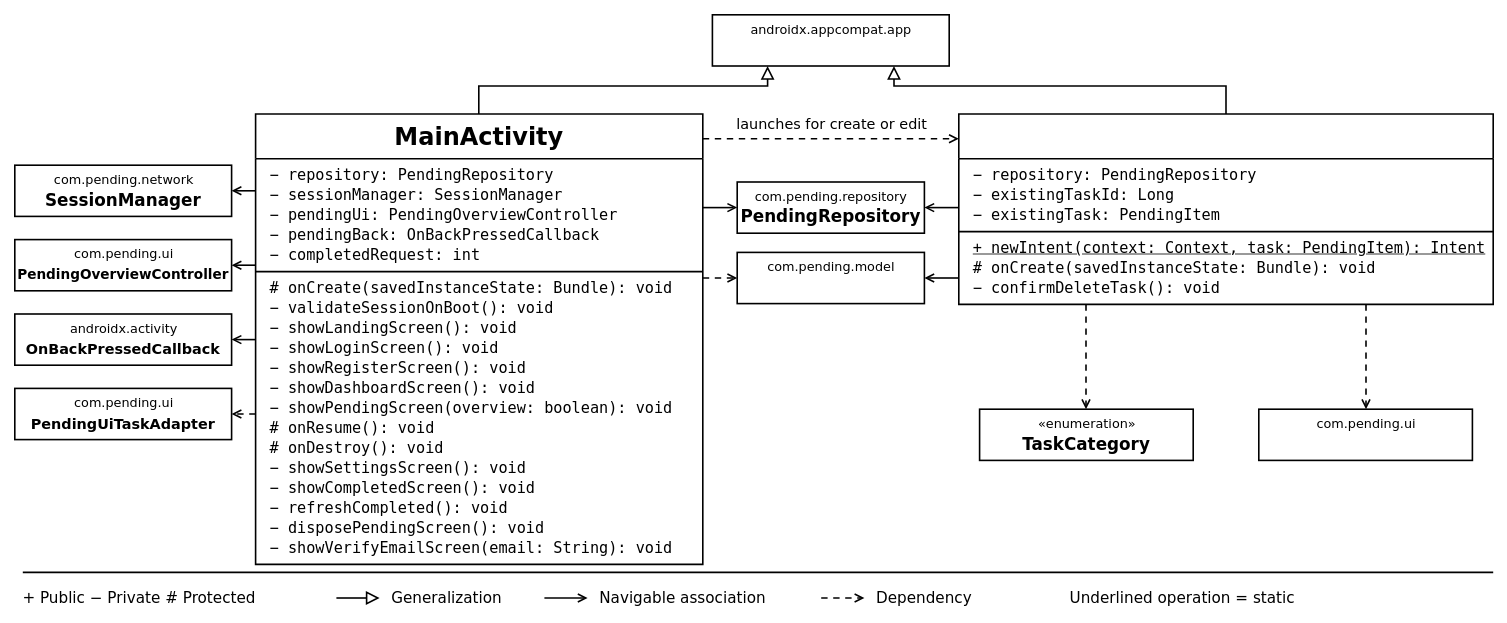
Image size: 1507x623. Some labels were removed from this diagram. The shapes that lost their labels are listed below. From the top down, each one's box as (x1, y1, x2, y2) in pixels, then its label:
(711, 14, 950, 66): AppCompatActivity
(958, 113, 1494, 305): CreateTaskActivity
(736, 251, 925, 304): PendingItem
(1258, 408, 1473, 461): PendingTaskUpdates
